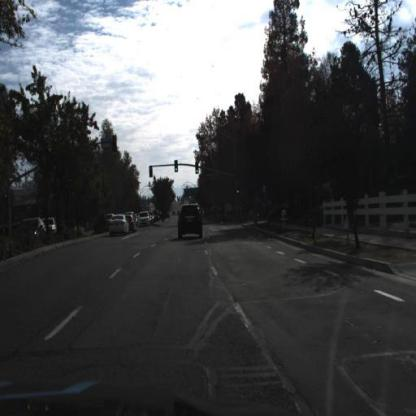car: (175, 200, 208, 244), (15, 218, 48, 241), (107, 212, 132, 236), (139, 212, 151, 230)
trafficLight: (194, 157, 202, 178), (173, 157, 181, 175), (236, 182, 243, 202), (148, 161, 155, 179)
